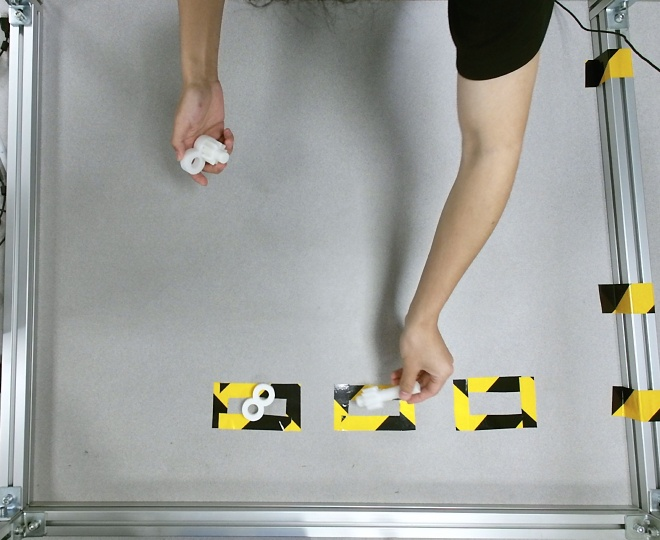stage_2: (181, 135, 229, 174)
